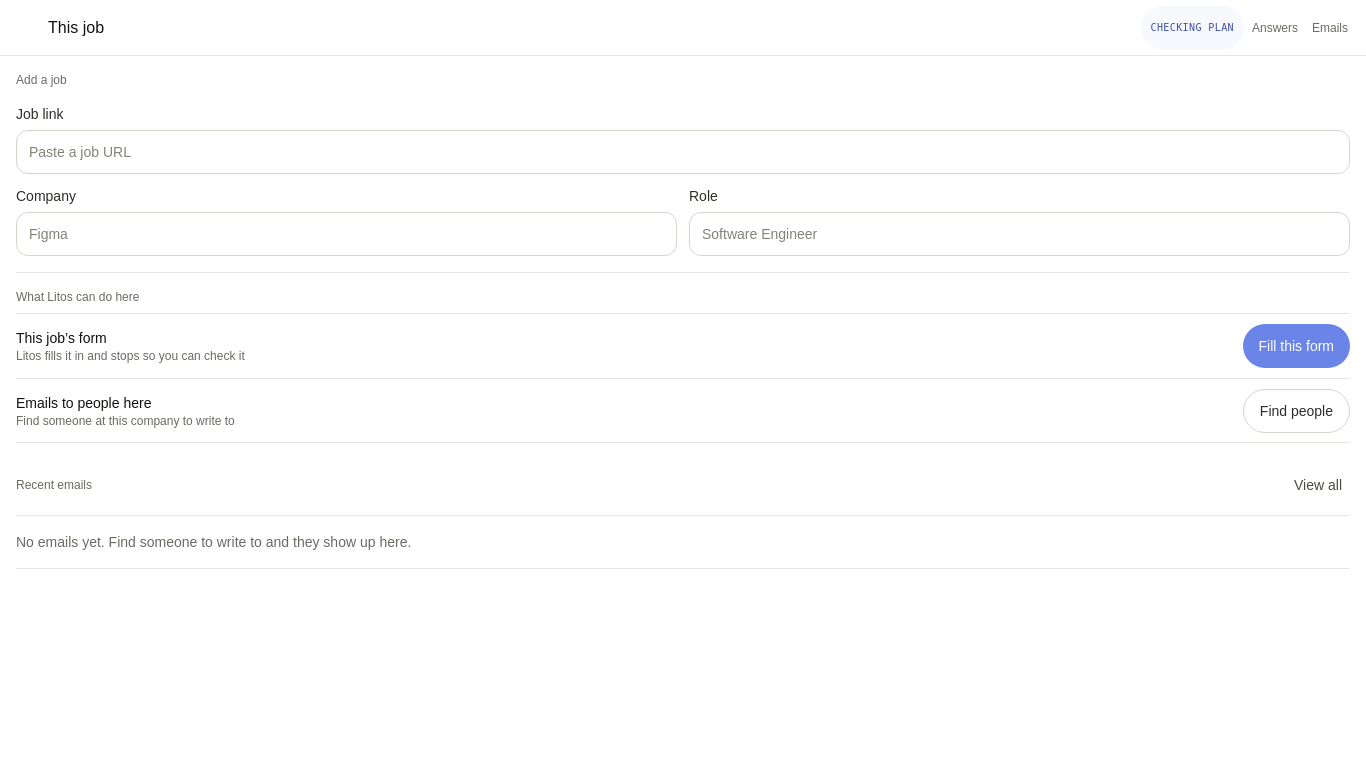
it: redesigned popup workflows › validates the manual job form before resolving contacts
The width and height of the screenshot is (1366, 768).
Click the button "Find people". click: (1296, 410)
box: [1243,388,1350,432]
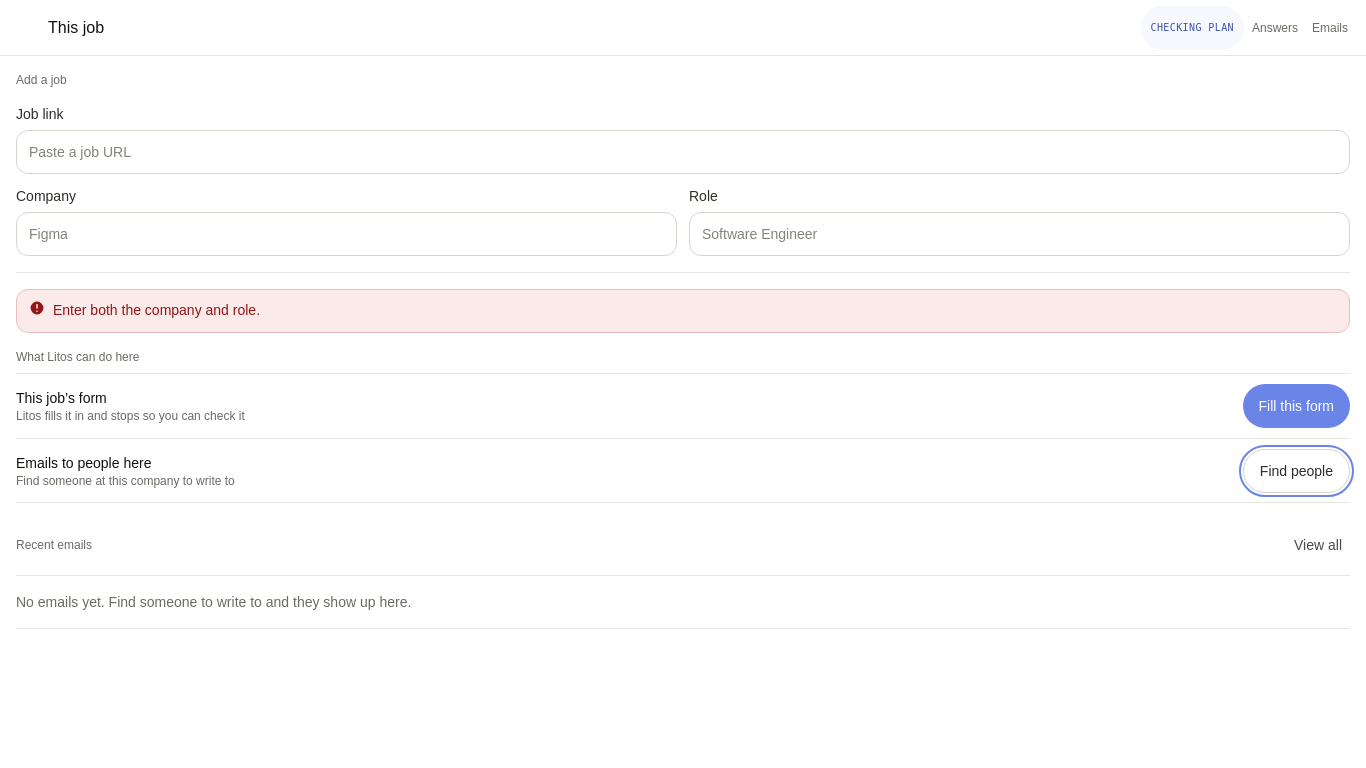
Check: the message reads "Enter both the company and role.", box [53,302,260,318]
